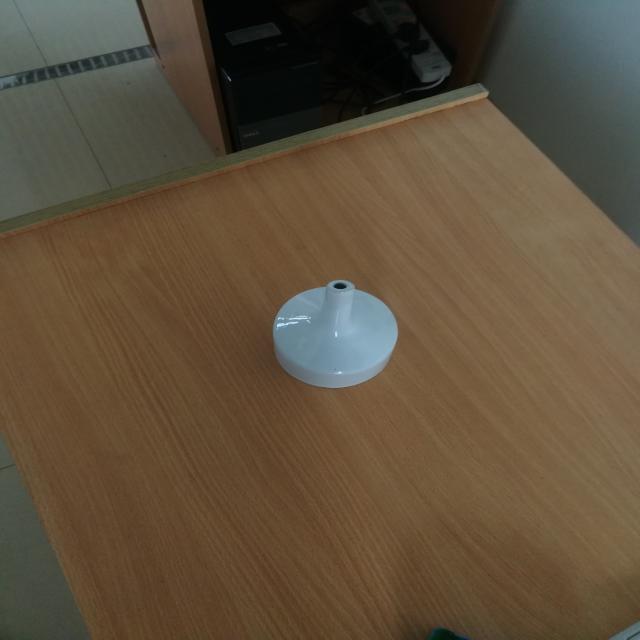Buchner_Funnel: (228, 247, 422, 417)
